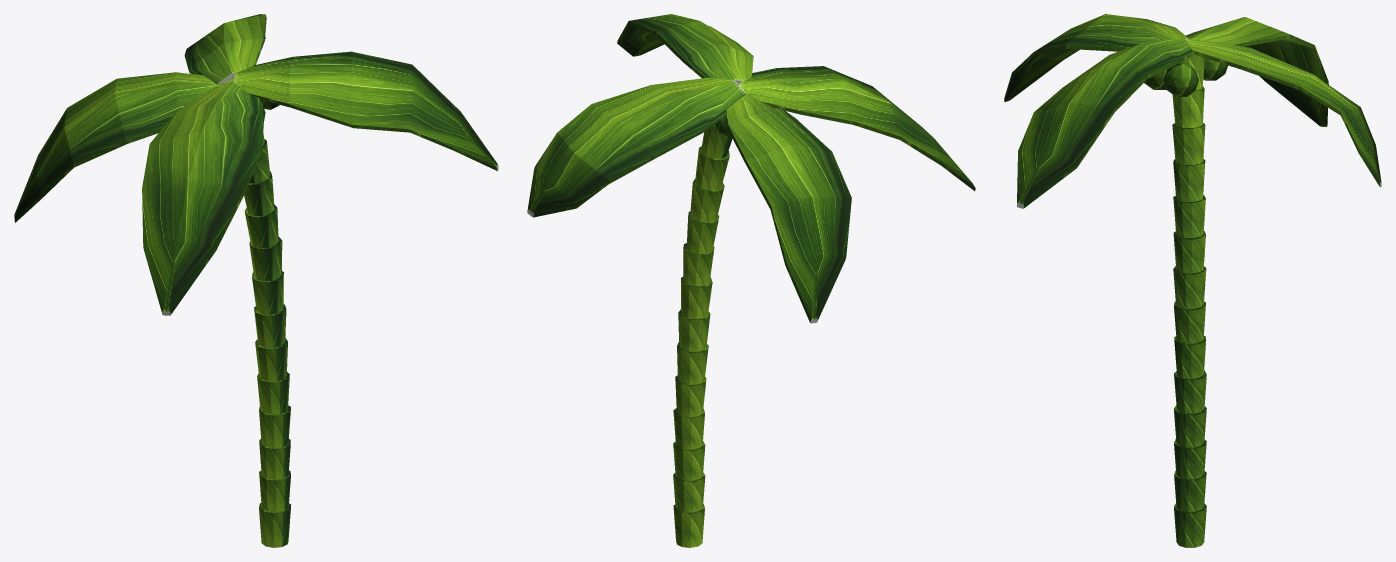
File: palmera.obj
3 views of the same model, side by side, from view 1: azimuth 30°, elevation 25°; view 2: azimuth 150°, elevation 25°; view 3: azimuth 270°, elevation 25° (orthographic). The views are drawn at different scales.
Parts seen in each view (by area): view 1: palmera; view 2: palmera; view 3: palmera.
Part boxes in pixels (bbox=[...]): palmera: bbox=[14, 14, 498, 547]; palmera: bbox=[527, 14, 975, 547]; palmera: bbox=[1004, 14, 1381, 547].
Size of the model in its own units: 1.81 by 2.49 by 1.72.
Materials: 1 (1 with a texture image).
